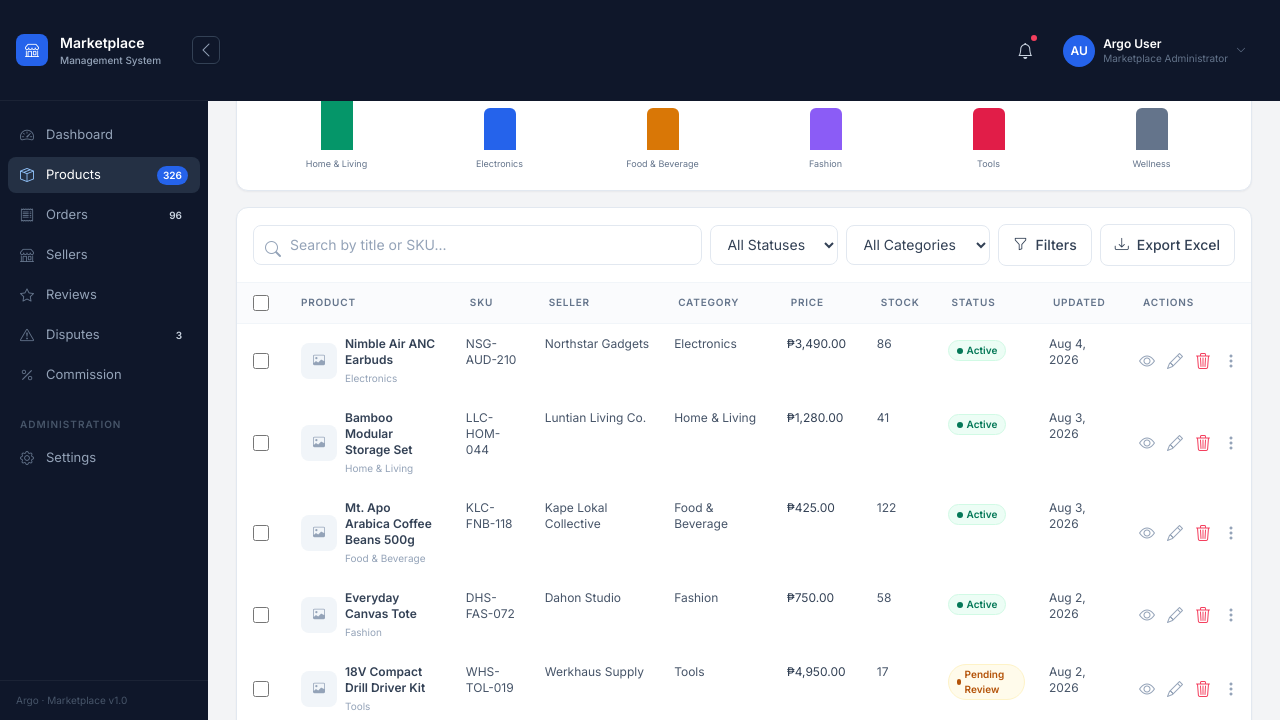
Test: selects products and asks for confirmation before bulk removal
(page scrolled)
What coordinates should you click on to do the following:
click the checkbox named "Select product"
I would click on:
 (261, 360)
Its box is [253,352,269,368].
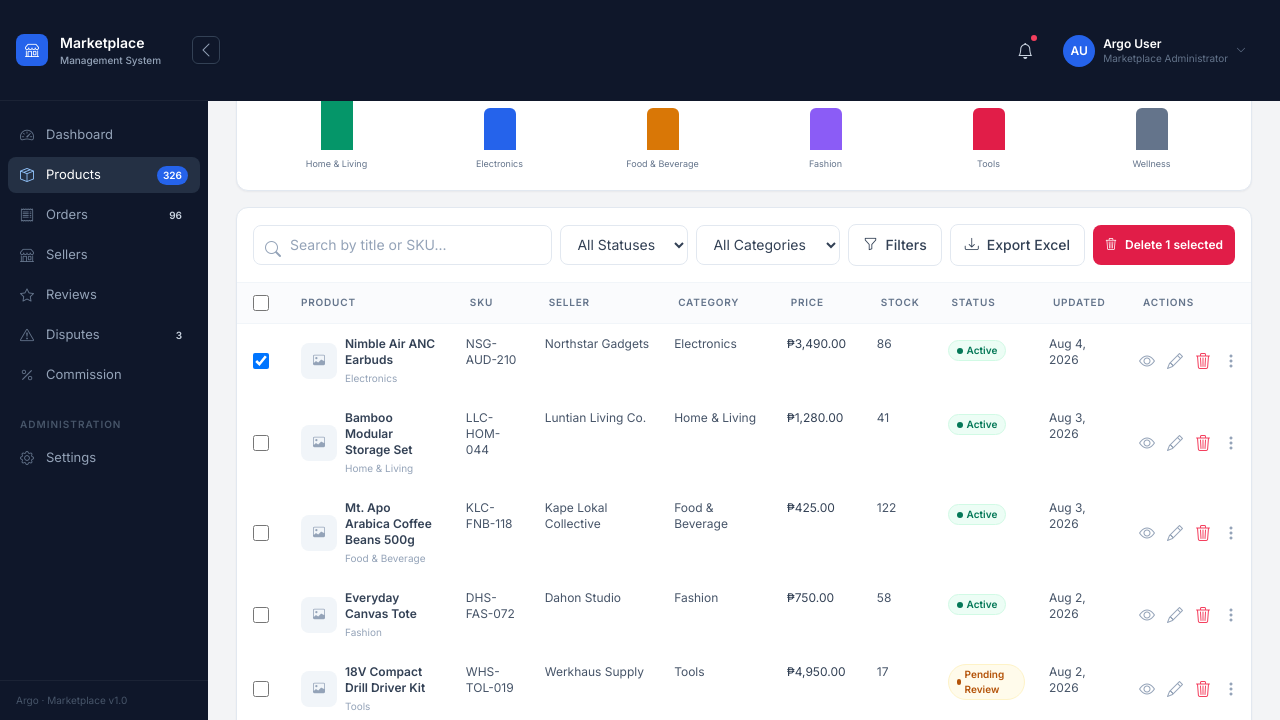
What coordinates should you click on to do the following:
click the button "Delete 1 selected"
I would click on:
 (1164, 244)
Its box is [1093,224,1235,264].
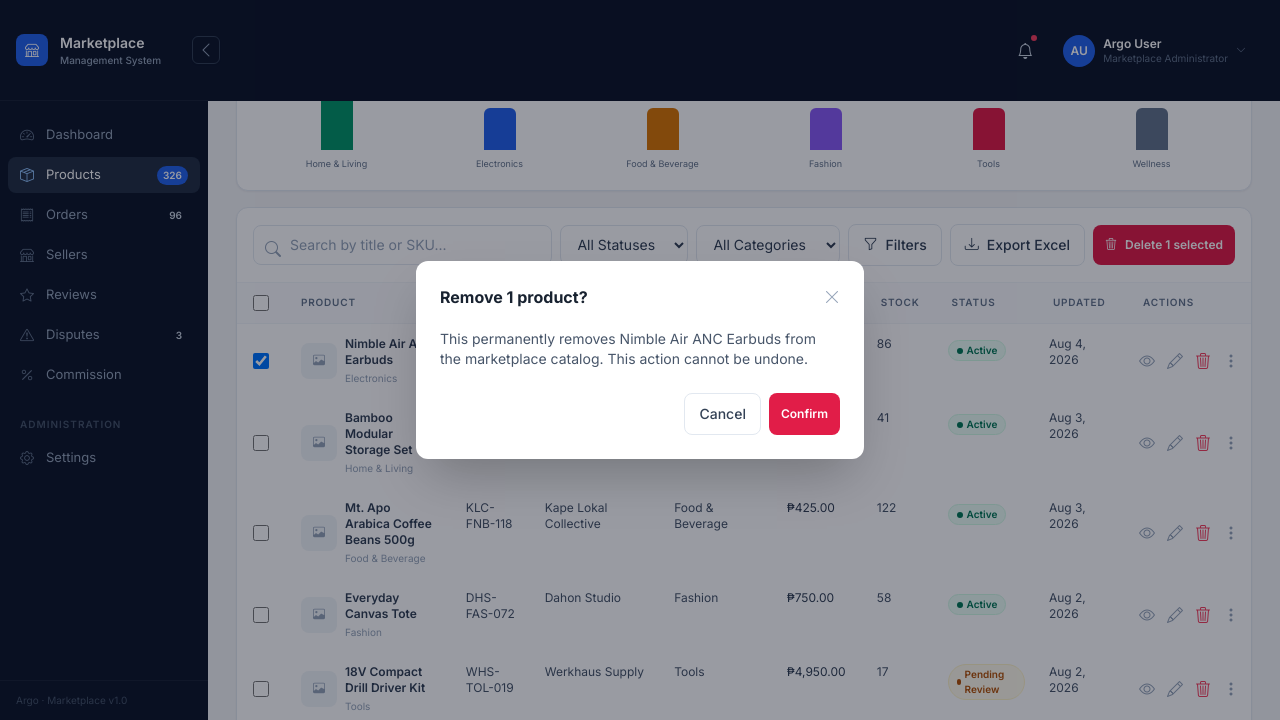
Expected: the dialog "Remove 1 product?" is shown, [416,261,864,459]
Expected: the text "This permanently removes" is shown, [440,330,816,367]
